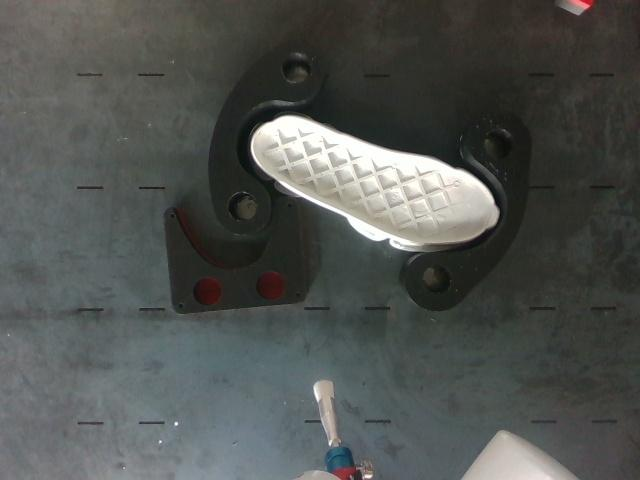shoes: (252, 115, 499, 244)
